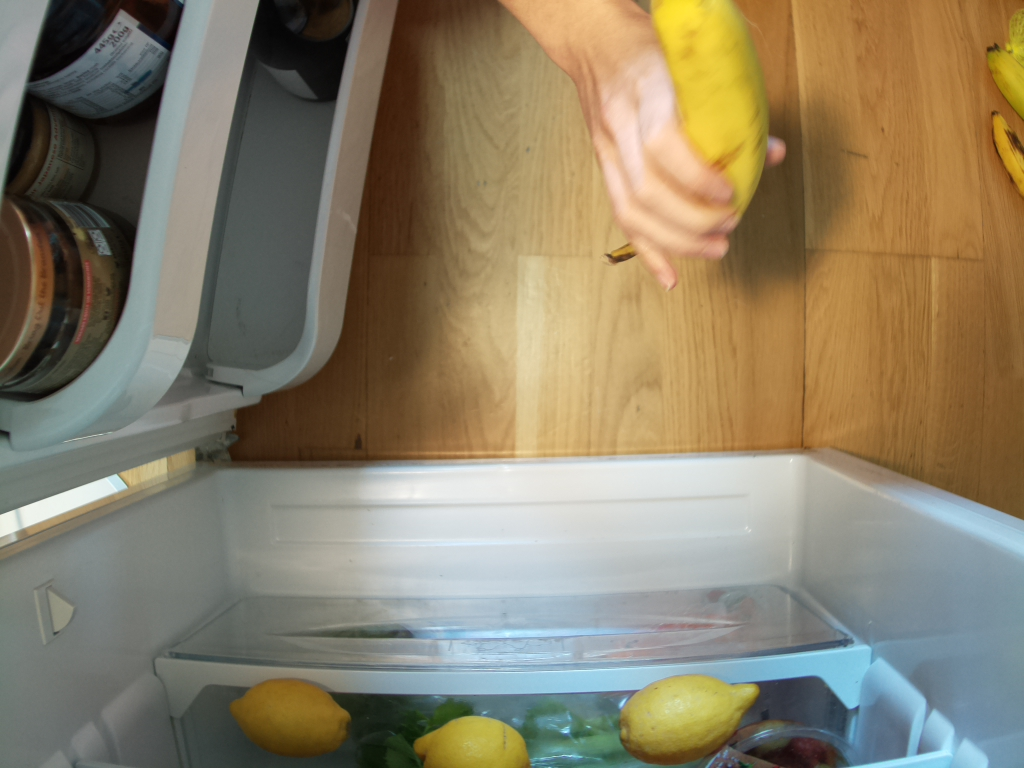banana: (612, 1, 768, 263)
